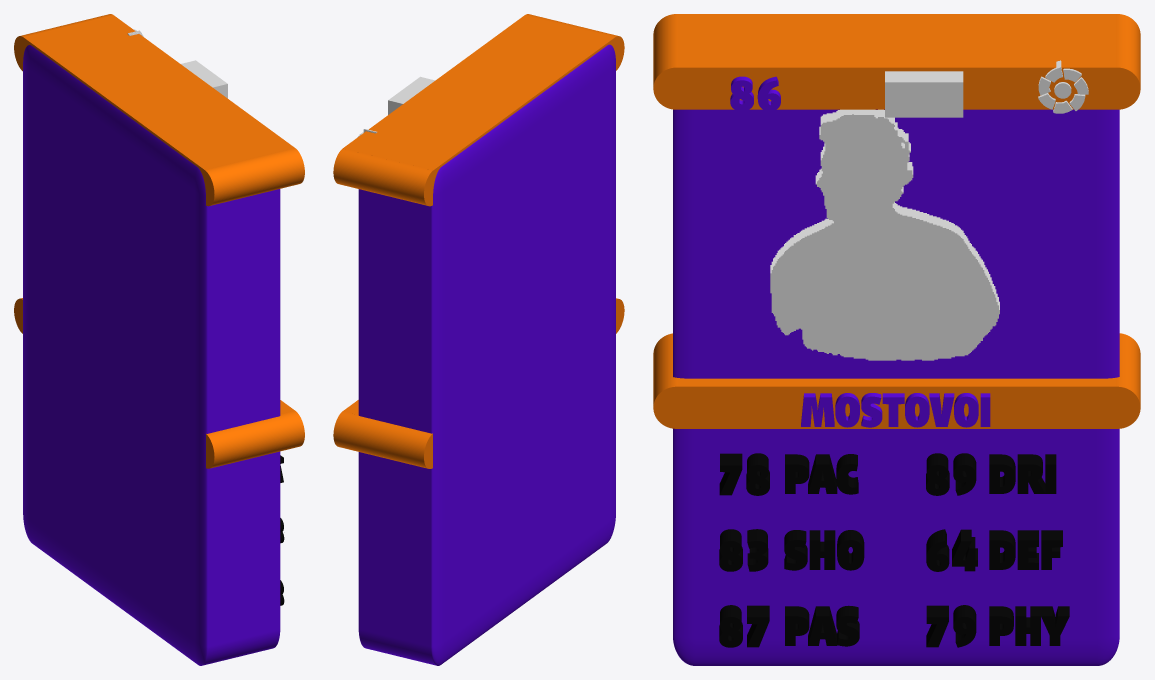
Rendered from MOSTOVOI.fbx.
3 renders of one model, left to right at view 1: azimuth 30°, elevation 25°; view 2: azimuth 150°, elevation 25°; view 3: azimuth 270°, elevation 25°, orthographic. The views are drawn at different scales.
Parts seen in each view (by area): view 1: Куб, Цилиндр.002, Цилиндр.001, Куб.001; view 2: Куб, Цилиндр.002, Цилиндр.001, Куб.001; view 3: Куб, Цилиндр.002, Плоскость, Цилиндр.001, Текст.006, Куб.001, Текст, Текст.002, Текст.005, Текст.004, Текст.001, Текст.003 (+8 smaller).
Part boxes in pixels (x1,y1,x2,y2): Куб: [23, 45, 280, 665]; Цилиндр.002: [14, 14, 304, 206]; Цилиндр.001: [14, 298, 304, 468]; Куб.001: [181, 60, 227, 98]; Куб: [358, 44, 615, 665]; Цилиндр.002: [333, 14, 624, 206]; Цилиндр.001: [333, 298, 624, 468]; Куб.001: [388, 76, 435, 114]; Куб: [673, 109, 1119, 665]; Цилиндр.002: [653, 14, 1140, 109]; Плоскость: [770, 109, 999, 360]; Цилиндр.001: [653, 333, 1140, 428]; Текст.006: [801, 393, 990, 427]; Куб.001: [885, 71, 963, 117]; Текст: [784, 530, 864, 570]; Текст.002: [785, 605, 859, 646]; Текст.005: [989, 606, 1069, 645]; Текст.004: [989, 530, 1062, 569]; Текст.001: [785, 454, 858, 494]; Текст.003: [989, 454, 1056, 493].
Bounding box in the file's own units: 300 × 1205 × 872.
